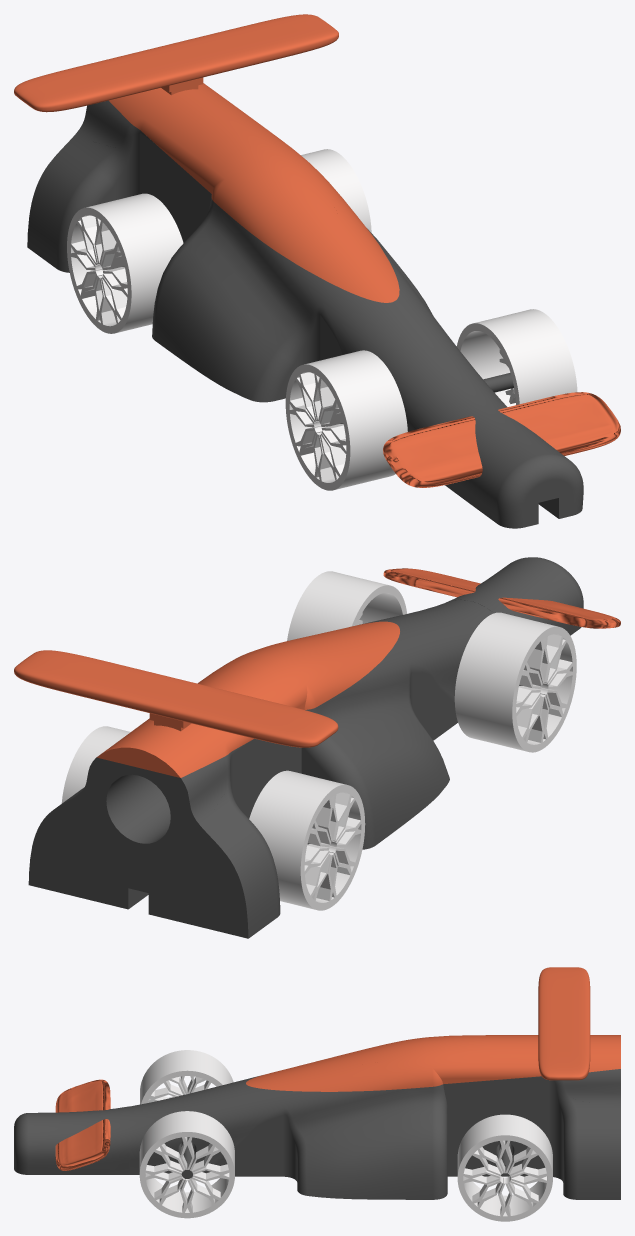
Rendered from car.fbx.
3 views of the same model, one above another, from view 1: azimuth 30°, elevation 25°; view 2: azimuth 150°, elevation 25°; view 3: azimuth 270°, elevation 25° (orthographic). The views are drawn at different scales.
Parts seen in each view (by area): view 1: main car (3) (2), main car, Body9.002, rear wing, Body9.003, nose cone, front wing, main car (3), Body9, main car (1), main car (4), main car (3) (1) (+1 smaller); view 2: main car (3) (2), main car (4), Body9.002, rear wing, Body9.003, main car, main car (1), Body9, main car (3), nose cone, main car (2), front wing (+1 smaller); view 3: main car (3) (2), Body9.001, Body9, main car, main car (2), rear wing, main car (3) (1), nose cone, main car (4), front wing, Body9.002.
Part boxes in pixels (x1=…): main car (3) (2): x1=152, y1=149, x2=503, y2=431; main car: x1=109, y1=83, x2=390, y2=301; Body9.002: x1=285, y1=350, x2=407, y2=490; rear wing: x1=14, y1=14, x2=338, y2=112; Body9.003: x1=67, y1=193, x2=183, y2=333; nose cone: x1=434, y1=395, x2=583, y2=528; front wing: x1=383, y1=392, x2=620, y2=487; main car (3): x1=160, y1=145, x2=391, y2=302; Body9: x1=456, y1=309, x2=577, y2=406; main car (1): x1=27, y1=135, x2=125, y2=272; main car (4): x1=75, y1=100, x2=160, y2=200; main car (3) (1): x1=276, y1=136, x2=399, y2=302; main car (3) (2): x1=253, y1=599, x2=493, y2=849; main car (4): x1=75, y1=740, x2=252, y2=926; Body9.002: x1=454, y1=612, x2=576, y2=752; rear wing: x1=14, y1=650, x2=338, y2=747; Body9.003: x1=249, y1=770, x2=365, y2=910; main car: x1=96, y1=622, x2=390, y2=777; main car (1): x1=201, y1=786, x2=280, y2=938; Body9: x1=287, y1=571, x2=406, y2=640; main car (3): x1=253, y1=622, x2=399, y2=739; nose cone: x1=446, y1=557, x2=583, y2=635; main car (2): x1=28, y1=787, x2=84, y2=896; front wing: x1=383, y1=568, x2=620, y2=628; main car (3) (2): x1=129, y1=1075, x2=518, y2=1199; Body9.001: x1=457, y1=1114, x2=552, y2=1221; Body9: x1=139, y1=1111, x2=234, y2=1218; main car: x1=248, y1=1035, x2=620, y2=1082; main car (2): x1=560, y1=1097, x2=620, y2=1199; rear wing: x1=538, y1=967, x2=590, y2=1080; main car (3) (1): x1=246, y1=1059, x2=518, y2=1091; nose cone: x1=14, y1=1106, x2=129, y2=1174; main car (4): x1=496, y1=1069, x2=620, y2=1178; front wing: x1=55, y1=1079, x2=110, y2=1170; Body9.002: x1=140, y1=1050, x2=233, y2=1104.
Bounding box in the file's own units: 229 × 154 × 535.
